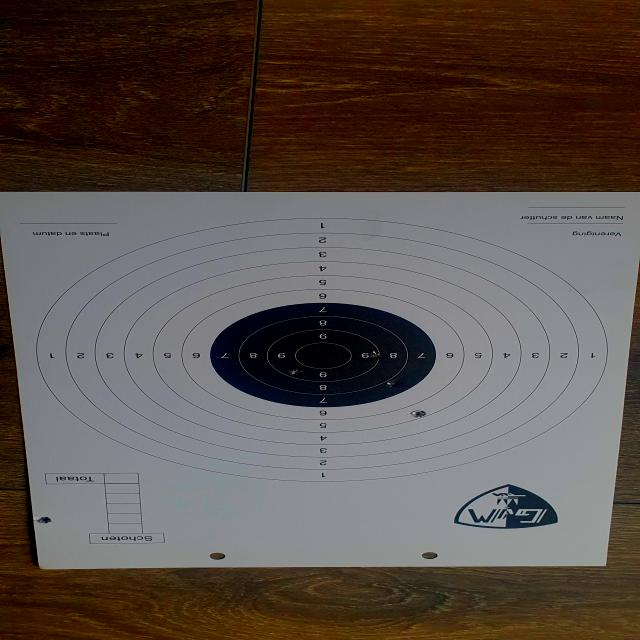0: (33, 515, 55, 525)
5: (408, 409, 428, 419)
7: (385, 379, 406, 388)
9: (285, 367, 308, 378), (369, 352, 388, 361)
Target: (35, 217, 610, 483)
black_contour: (211, 304, 435, 408)
